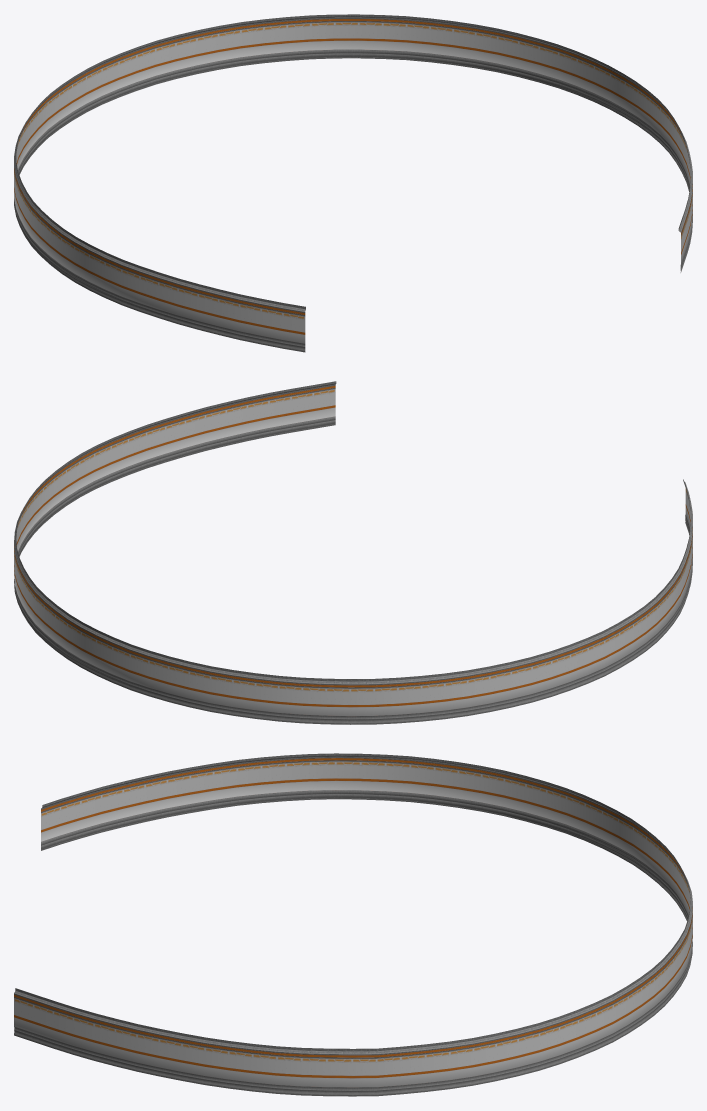
The model's file is FirstFloor_Walls.fbx.
3 views of the same model, one above another, from view 1: azimuth 30°, elevation 25°; view 2: azimuth 150°, elevation 25°; view 3: azimuth 270°, elevation 25° (orthographic). The views are drawn at different scales.
Visible parts, largest first — view 1: FirstFloor_Walls; view 2: FirstFloor_Walls; view 3: FirstFloor_Walls.
Boxes of the visible parts, <box> form: FirstFloor_Walls: <box>14,14,692,352</box>; FirstFloor_Walls: <box>14,381,692,724</box>; FirstFloor_Walls: <box>14,753,692,1096</box>.
Size of the model in its own units: 119 by 8.88 by 115.
